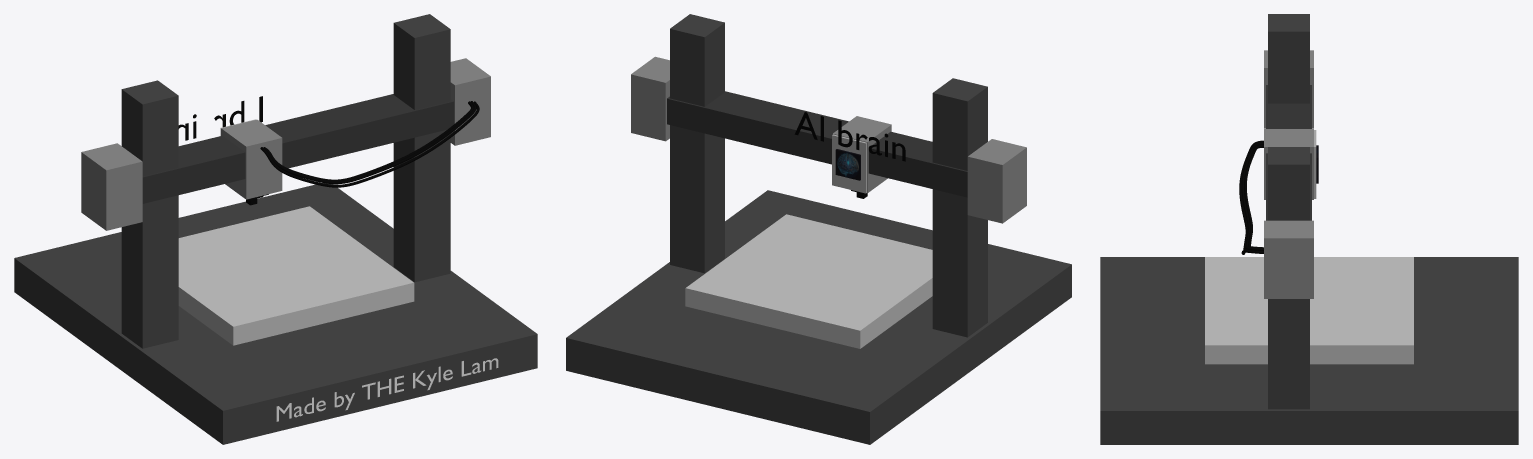
The model's file is sepfreedom.glb.
3 renders of one model, left to right at view 1: azimuth 30°, elevation 25°; view 2: azimuth 150°, elevation 25°; view 3: azimuth 270°, elevation 25°, orthographic. The views are drawn at different scales.
Parts seen in each view (by area): view 1: Cube, Cube.001, Cube.004, Cube.002, Cube.003, Cube.006, Cube.007, Cube.005, Text.001, NurbsPath.002, NurbsPath.001, NurbsPath (+1 smaller); view 2: Cube, Cube.001, Cube.004, Cube.002, Cube.003, Cube.006, Cube.005, Cube.007, Cube.012, Text, Cube.013; view 3: Cube, Cube.001, Cube.004, Cube.005, Cube.002, Cube.003, Cube.007, Cube.006, NurbsPath.002.
Part boxes in pixels (bbox=[...]): Cube: bbox=[14, 183, 537, 444]; Cube.001: bbox=[178, 206, 414, 345]; Cube.004: bbox=[393, 14, 450, 282]; Cube.002: bbox=[121, 80, 178, 348]; Cube.003: bbox=[142, 94, 453, 203]; Cube.006: bbox=[81, 143, 142, 230]; Cube.007: bbox=[221, 119, 282, 199]; Cube.005: bbox=[450, 58, 490, 145]; Text.001: bbox=[276, 358, 498, 421]; NurbsPath.002: bbox=[260, 101, 479, 187]; NurbsPath.001: bbox=[263, 101, 476, 184]; NurbsPath: bbox=[266, 101, 473, 181]; Cube: bbox=[566, 190, 1071, 444]; Cube.001: bbox=[685, 214, 932, 348]; Cube.004: bbox=[670, 14, 724, 273]; Cube.002: bbox=[932, 78, 987, 337]; Cube.003: bbox=[667, 91, 967, 197]; Cube.006: bbox=[967, 139, 1026, 223]; Cube.005: bbox=[631, 56, 669, 141]; Cube.007: bbox=[832, 116, 891, 193]; Cube.012: bbox=[832, 134, 866, 193]; Text: bbox=[794, 112, 905, 161]; Cube.013: bbox=[835, 149, 860, 180]; Cube: bbox=[1100, 257, 1518, 444]; Cube.001: bbox=[1205, 257, 1413, 364]; Cube.004: bbox=[1268, 147, 1309, 409]; Cube.005: bbox=[1264, 220, 1313, 298]; Cube.002: bbox=[1268, 14, 1309, 103]; Cube.003: bbox=[1266, 85, 1311, 220]; Cube.007: bbox=[1264, 129, 1313, 199]; Cube.006: bbox=[1264, 50, 1313, 128]; NurbsPath.002: bbox=[1239, 140, 1263, 254].
Bounding box in the file's own units: 2.13 × 1.47 × 2.
19 materials, 1 textured.
